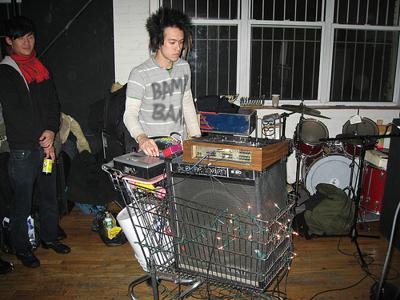person: (122, 8, 205, 288)
